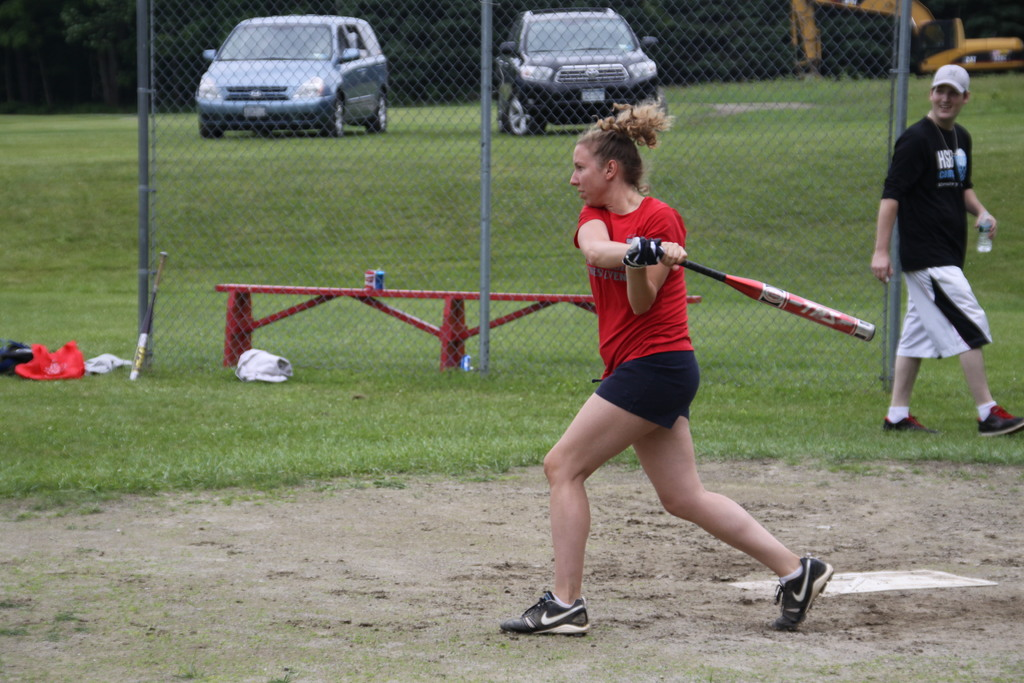Car: (192, 12, 393, 140)
